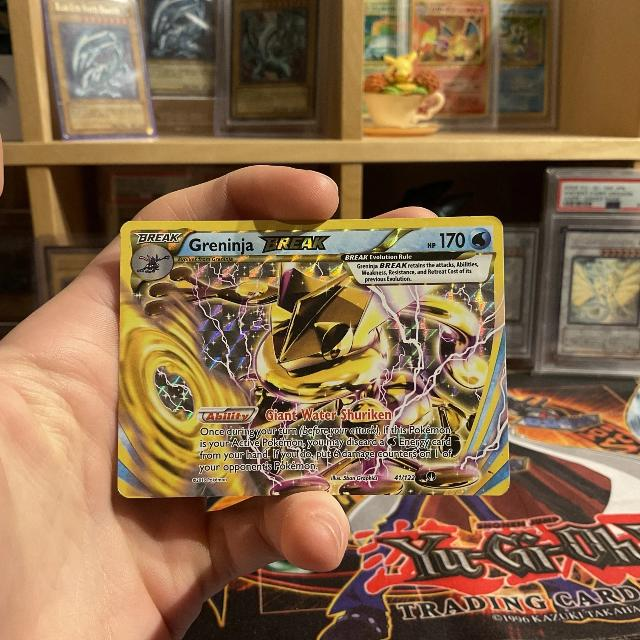Card: (112, 209, 517, 507)
Name: (186, 230, 334, 255)
